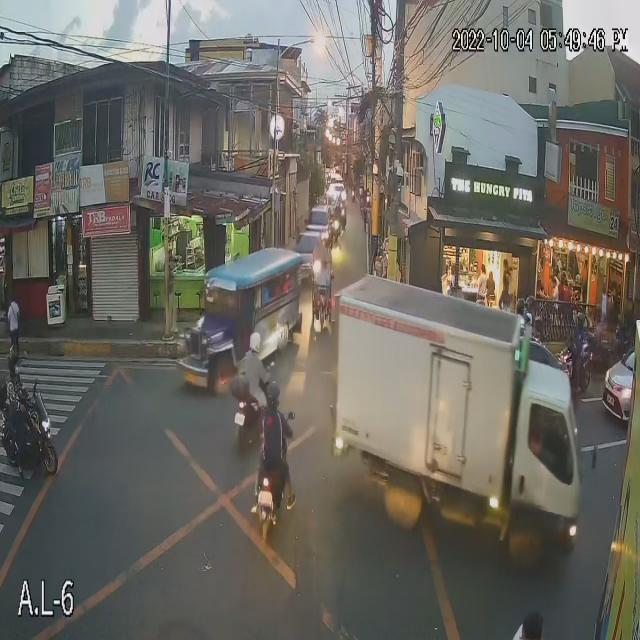helmet: (262, 380, 288, 409), (3, 344, 25, 374), (562, 313, 586, 337), (248, 328, 264, 354)
motorcycle: (2, 393, 55, 471), (251, 435, 292, 535), (226, 375, 273, 445), (554, 347, 592, 392)
rider: (259, 373, 288, 479), (2, 337, 35, 409), (238, 324, 266, 406), (570, 306, 586, 368)
